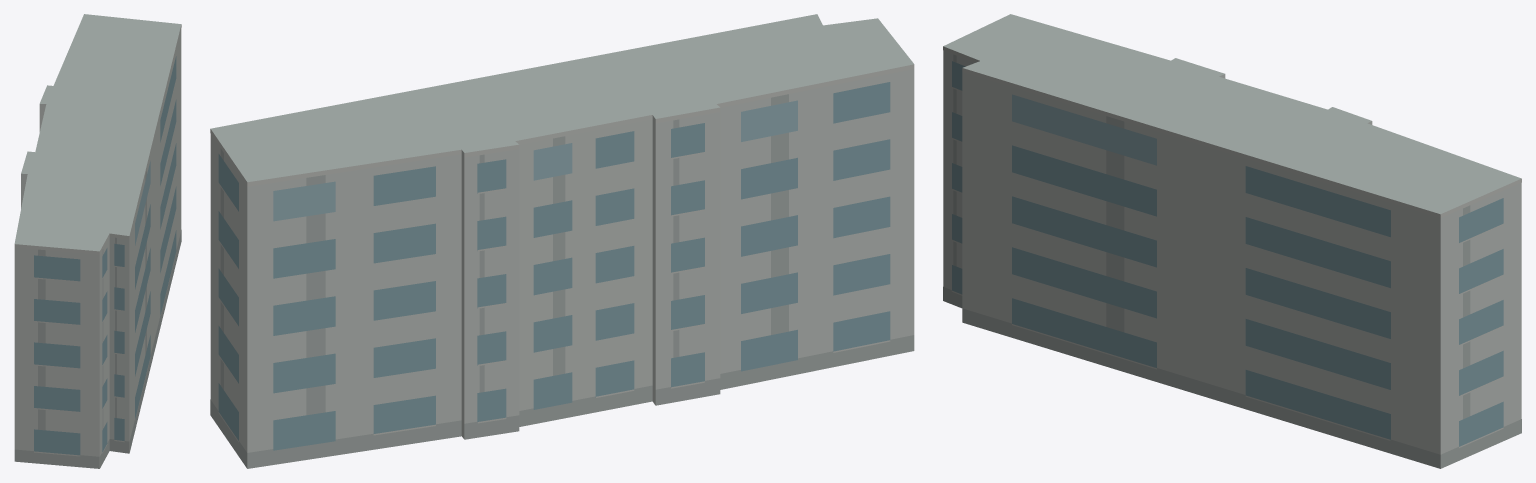
Rendered from survey-upis-32805231.glb.
3 renders of one model, left to right at view 1: azimuth 30°, elevation 25°; view 2: azimuth 150°, elevation 25°; view 3: azimuth 270°, elevation 25°, orthographic. The views are drawn at different scales.
Visible parts, largest first — view 1: survey-upis-32805231.tmp; view 2: survey-upis-32805231.tmp; view 3: survey-upis-32805231.tmp.
Part boxes in pixels (box(x1,y1,x2,y2)): survey-upis-32805231.tmp: box(14, 14, 181, 468); survey-upis-32805231.tmp: box(210, 14, 914, 468); survey-upis-32805231.tmp: box(943, 14, 1521, 468).
Size of the model in its own units: 25.73 by 15.25 by 31.41.
